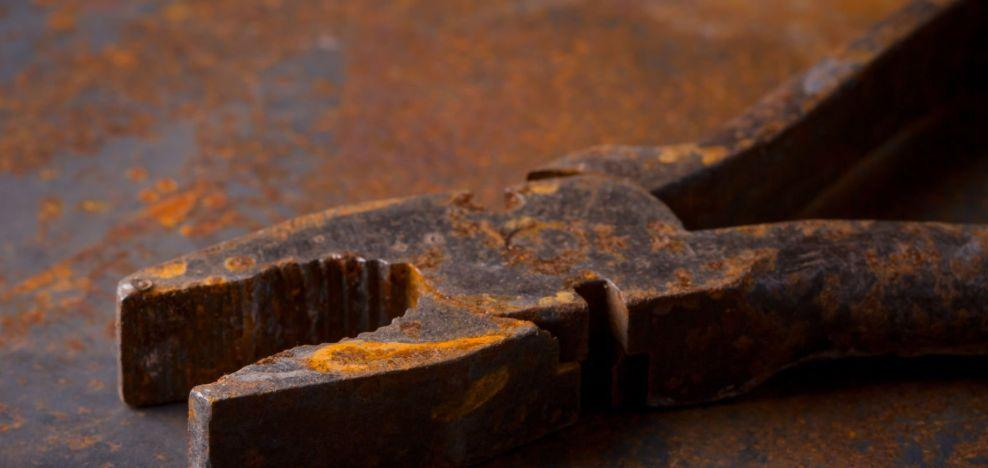metal: (100, 12, 988, 467)
